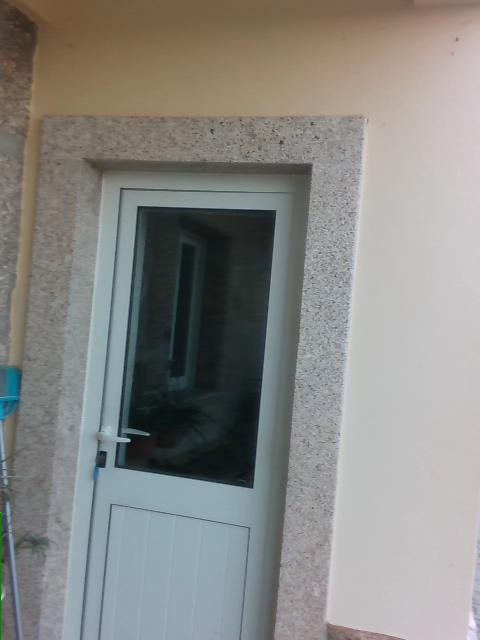door: (61, 170, 309, 639)
